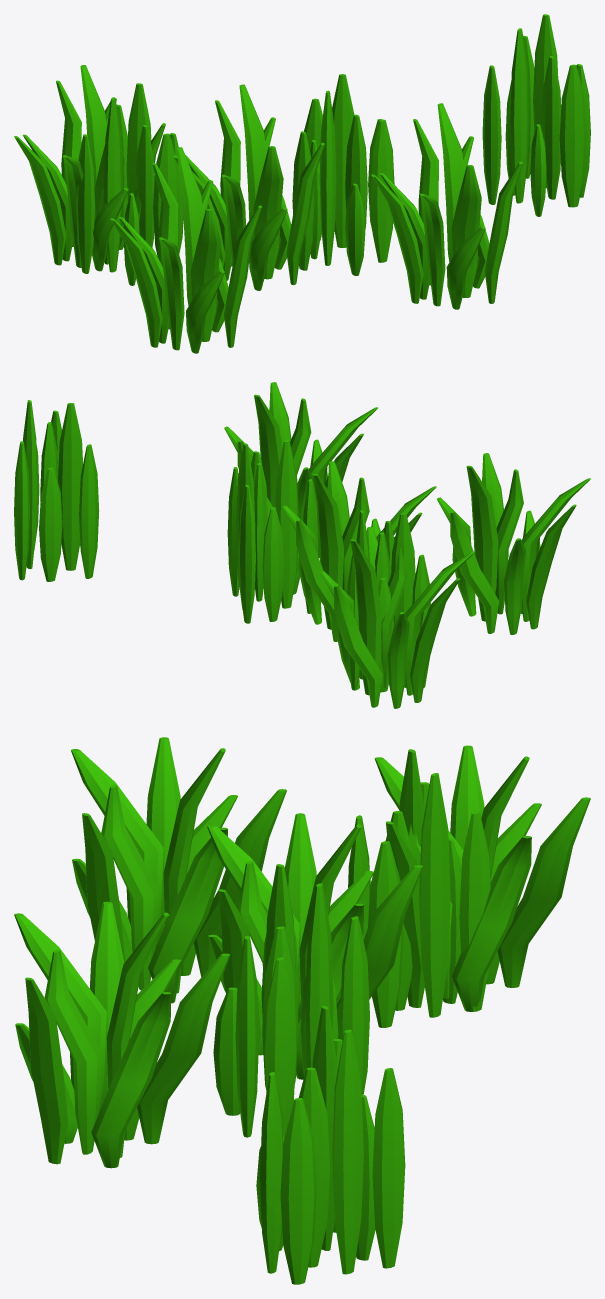
Rendered from GrassPatch.fbx.
3 views of the same model, one above another, from view 1: azimuth 30°, elevation 25°; view 2: azimuth 150°, elevation 25°; view 3: azimuth 270°, elevation 25° (orthographic). The views are drawn at different scales.
Visible parts, largest first — view 1: pCylinder26 (×4), pCylinder13 (×3), pCylinder23 (×3), pCylinder29 (×4), pCylinder31 (×4), pCylinder24 (×3), pCylinder30 (×3), pCylinder16 (×3), pCylinder27 (×4), pCylinder15 (×3), pCylinder18 (×3), pCylinder28 (×4) (+6 smaller); view 2: pCylinder26 (×4), pCylinder13 (×3), pCylinder28 (×3), pCylinder29 (×4), pCylinder31 (×4), pCylinder20 (×3), pCylinder22 (×3), pCylinder24 (×3), pCylinder15 (×3), pCylinder25 (×3), pCylinder16 (×3), pCylinder18 (×2) (+3 smaller); view 3: pCylinder28 (×4), pCylinder32 (×4), pCylinder18 (×3), pCylinder14 (×3), pCylinder30 (×4), pCylinder22 (×3), pCylinder29 (×3), pCylinder24 (×4), pCylinder26 (×4), pCylinder31 (×4), pCylinder23 (×3), pCylinder13 (×3) (+5 smaller).
Part boxes in pixels (box(x1,y1,x2,y2)): pCylinder26 (×4): box(80, 65, 464, 305); pCylinder13 (×3): box(103, 28, 529, 272); pCylinder23 (×3): box(153, 64, 586, 262); pCylinder29 (×4): box(94, 146, 481, 341); pCylinder31 (×4): box(63, 155, 445, 350); pCylinder24 (×3): box(14, 136, 423, 347); pCylinder30 (×3): box(224, 143, 522, 347); pCylinder16 (×3): box(135, 56, 561, 247); pCylinder27 (×4): box(92, 188, 485, 353); pCylinder15 (×3): box(76, 65, 501, 273); pCylinder18 (×3): box(126, 14, 558, 247); pCylinder28 (×4): box(56, 80, 438, 329); pCylinder26 (×4): box(254, 394, 498, 695); pCylinder13 (×3): box(58, 403, 415, 624); pCylinder28 (×3): box(296, 510, 499, 707); pCylinder29 (×4): box(290, 398, 523, 687); pCylinder31 (×4): box(309, 407, 590, 695); pCylinder20 (×3): box(39, 467, 394, 692); pCylinder22 (×3): box(14, 441, 359, 690); pCylinder24 (×3): box(317, 433, 576, 702); pCylinder15 (×3): box(79, 444, 430, 688); pCylinder25 (×3): box(297, 467, 525, 708); pCylinder16 (×3): box(40, 422, 390, 601); pCylinder18 (×2): box(23, 400, 255, 609); pCylinder28 (×4): box(137, 789, 590, 1144); pCylinder32 (×4): box(91, 827, 531, 1168); pCylinder18 (×3): box(305, 773, 450, 1274); pCylinder14 (×3): box(264, 841, 403, 1284); pCylinder30 (×4): box(25, 813, 424, 1164); pCylinder22 (×3): box(340, 811, 490, 1268); pCylinder29 (×3): box(44, 785, 267, 1154); pCylinder24 (×4): box(89, 737, 484, 1112); pCylinder26 (×4): box(106, 748, 529, 1157); pCylinder31 (×4): box(14, 749, 463, 1102); pCylinder23 (×3): box(235, 815, 370, 1273); pCylinder13 (×3): box(264, 749, 424, 1250).
Size of the model in its own units: 6.87 by 2.2 by 4.67.
